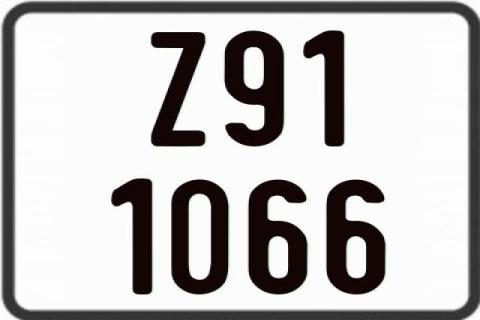0: (326, 179, 391, 295), (223, 30, 285, 150), (248, 180, 310, 298), (170, 178, 229, 296), (110, 177, 156, 295), (302, 30, 345, 150)
Z: (151, 32, 209, 150)
